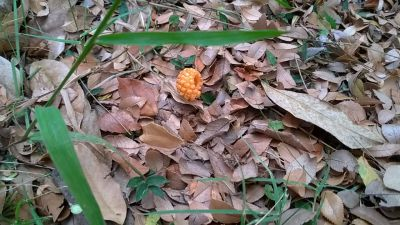eggs: (174, 65, 204, 103)
